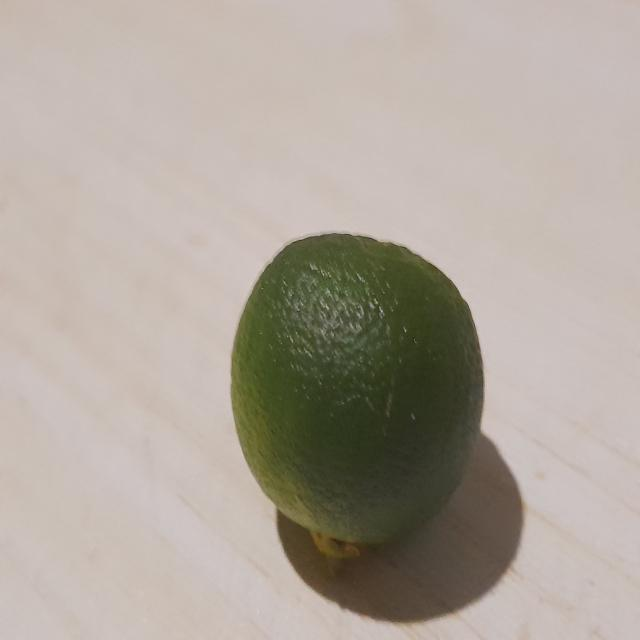heathy: (228, 228, 484, 544)
